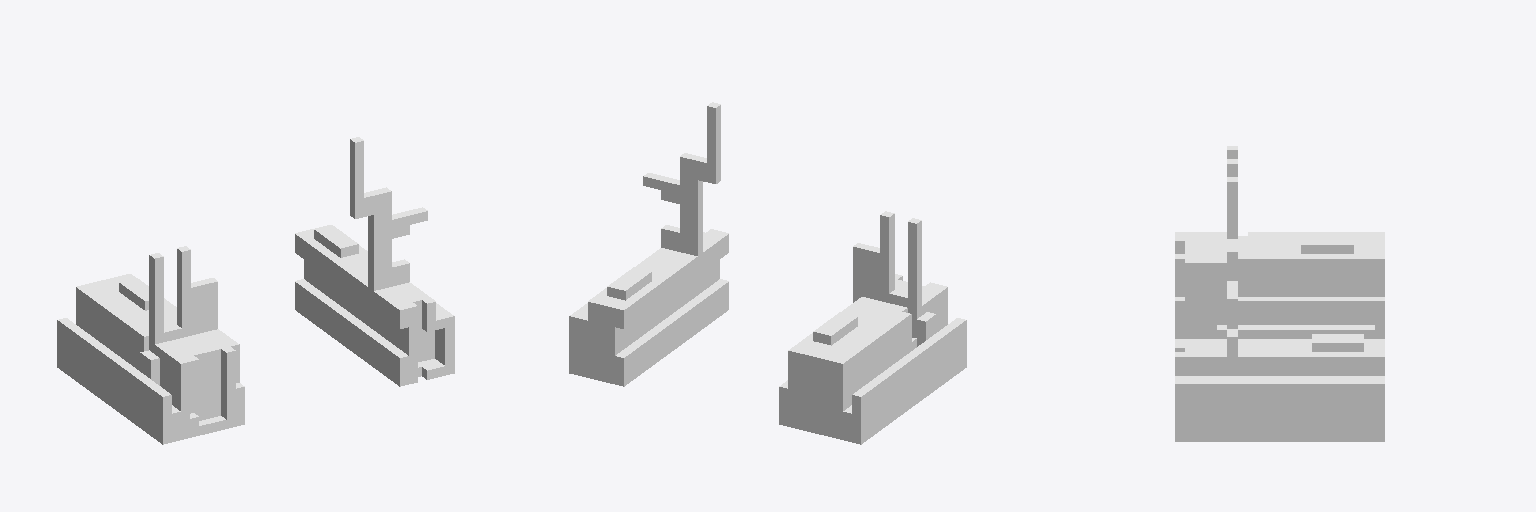
The model's file is Ruin_2.obj.
3 views of the same model, side by side, from view 1: azimuth 30°, elevation 25°; view 2: azimuth 150°, elevation 25°; view 3: azimuth 270°, elevation 25° (orthographic).
Visible parts, largest first — view 1: object 1; view 2: object 1; view 3: object 1.
Part boxes in pixels (x1,y1,x2,y2): object 1: (57, 137, 454, 444); object 1: (569, 102, 966, 444); object 1: (1175, 146, 1384, 441).
Bounding box in the file's own units: 3.2 × 2.4 × 2.